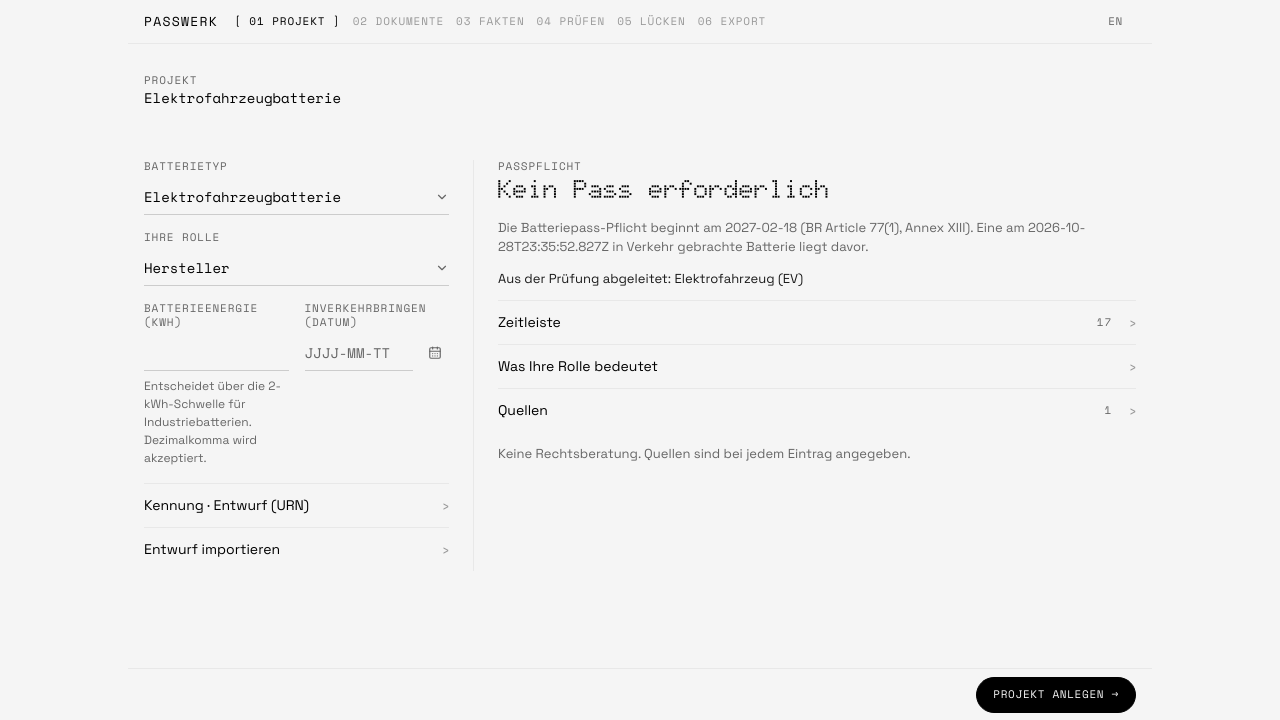
Test: App › starts on the project step, toggles language and starts a project
The image size is (1280, 720).
Expected: the text "Batterietyp" is shown, [144,158,228,174]
Click the button with test id "lang-toggle". click: (1116, 22)
box: [1095,8,1136,36]
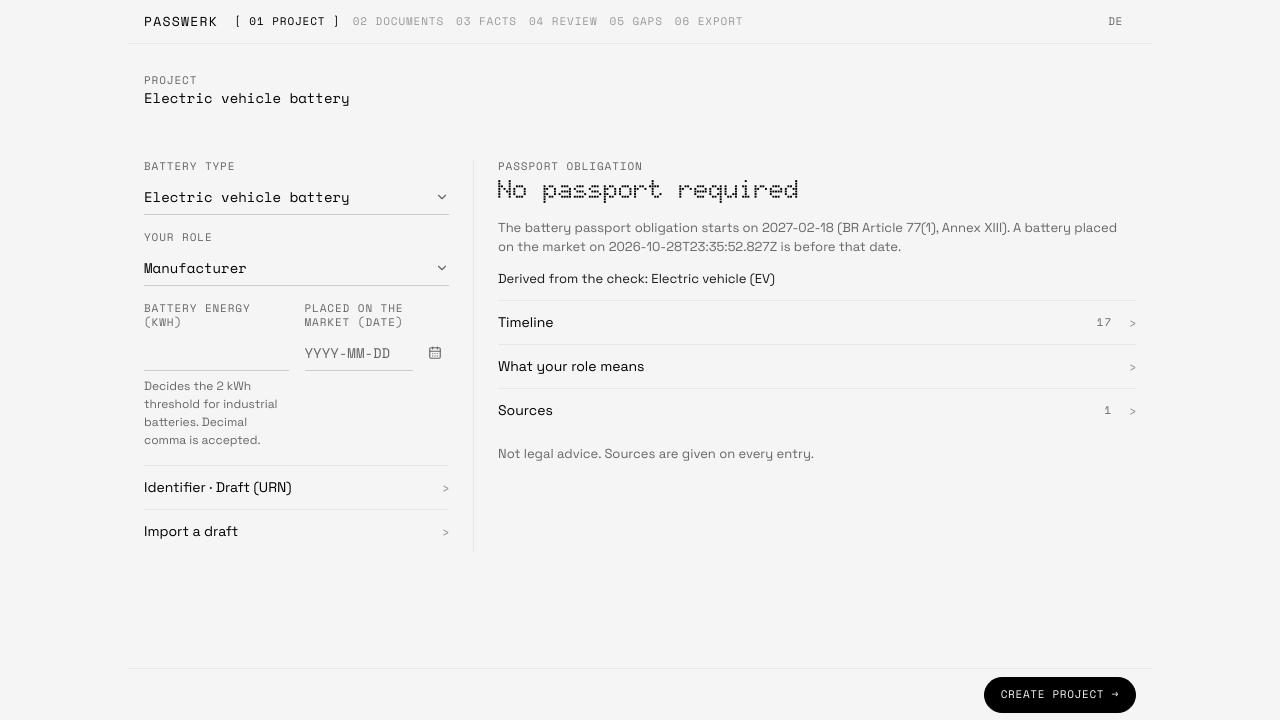
Result: the text "Battery type" is shown at [144,158,235,174]
Click the button with test id "project-continue". click: (1060, 694)
box: [984,676,1136,712]
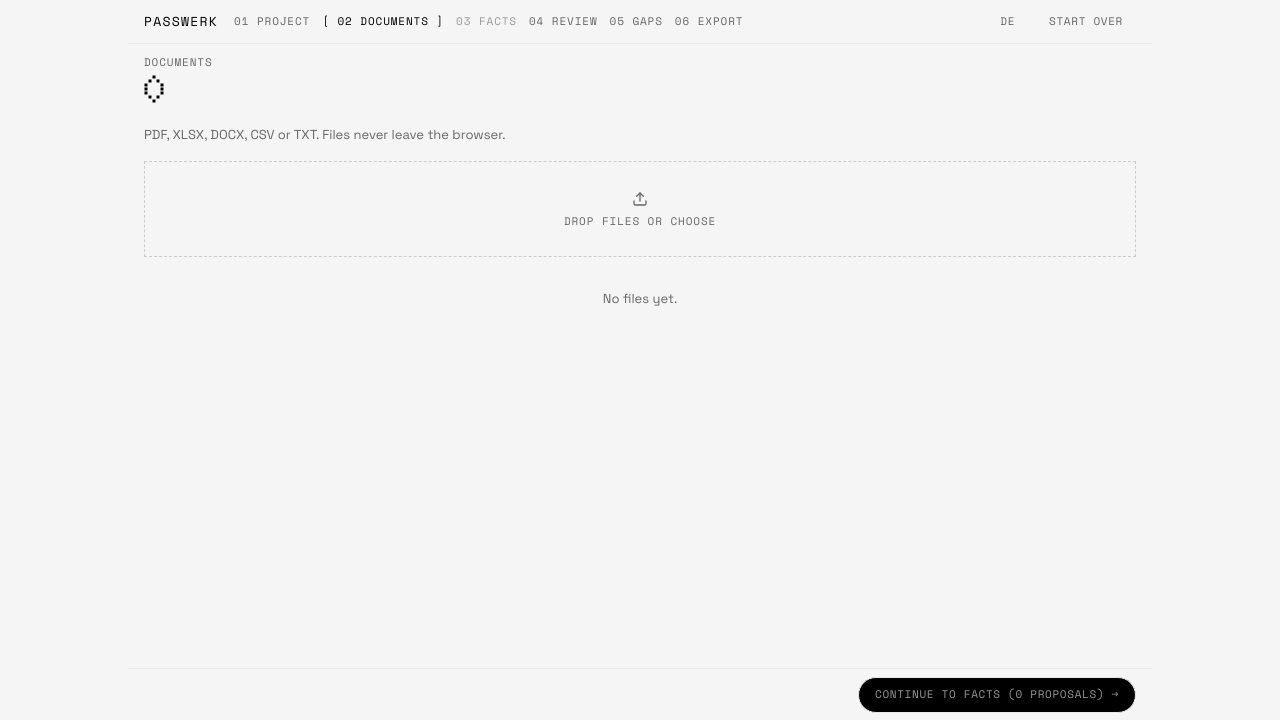
Result: the text "PDF, XLSX, DOCX, CSV or TXT. Files never leave the browser." is shown at [144,125,506,145]
